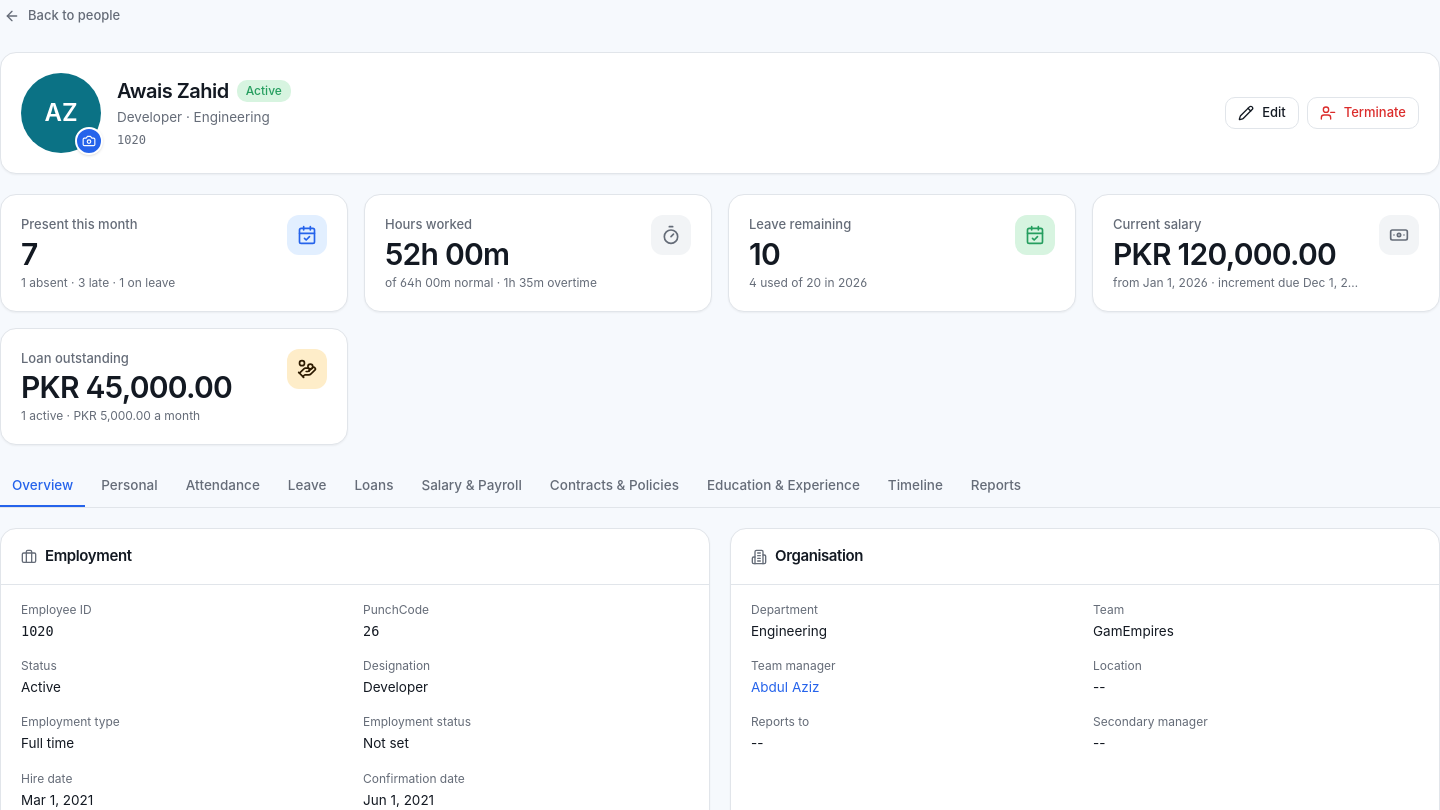
it: Employee 360 profile › says leave is unrecorded rather than inventing dates for it
Expected: the heading "Awais Zahid" is shown, [117,77,229,105]
Click the button "Leave". click: [307, 486]
box: [276,465,338,507]
(page scrolled)
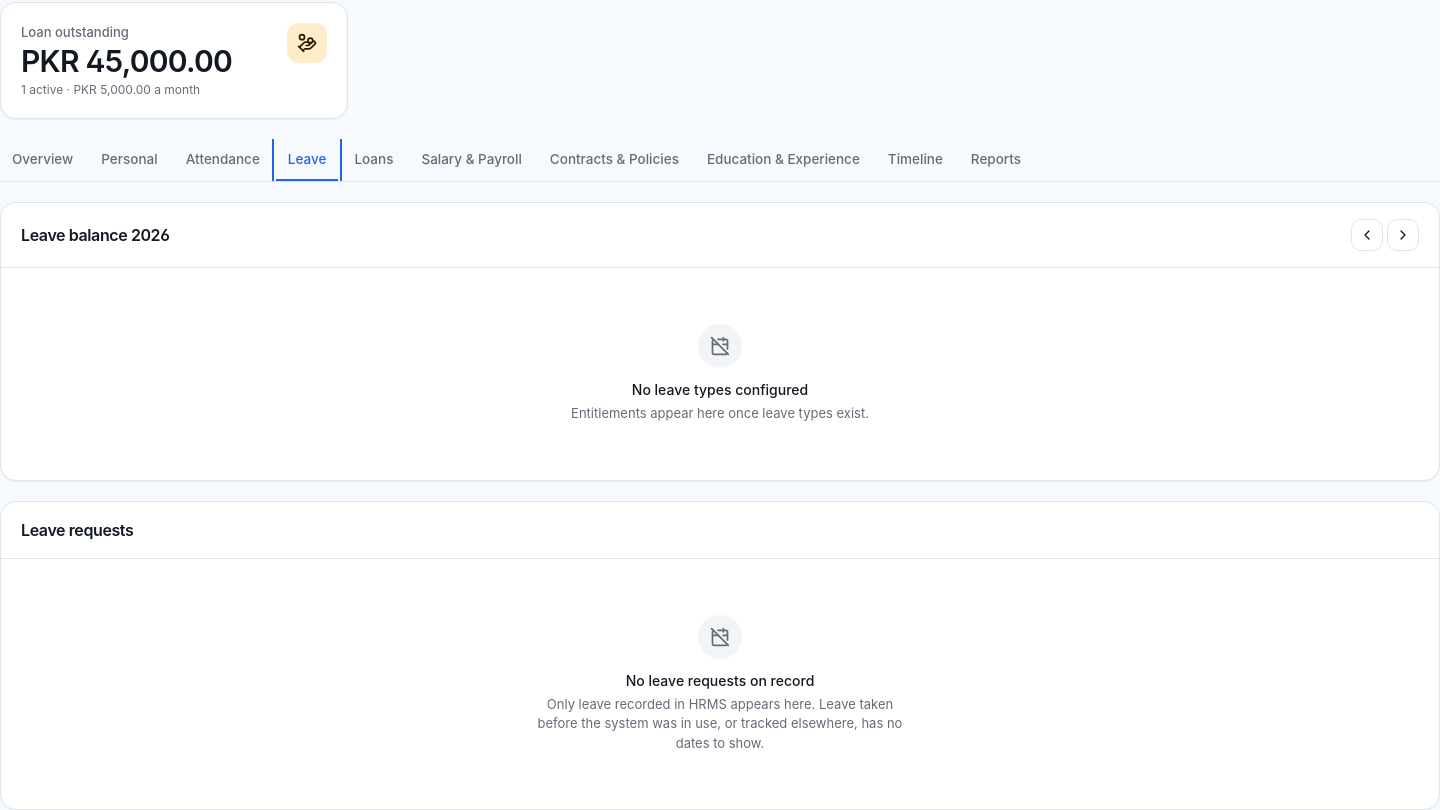
Expected: the text "No leave requests on record" is shown, [626,671,814,691]
Expected: the text "Leave taken before the system was in use, or tracked elsewhere" is shown, [538,696,902,751]
